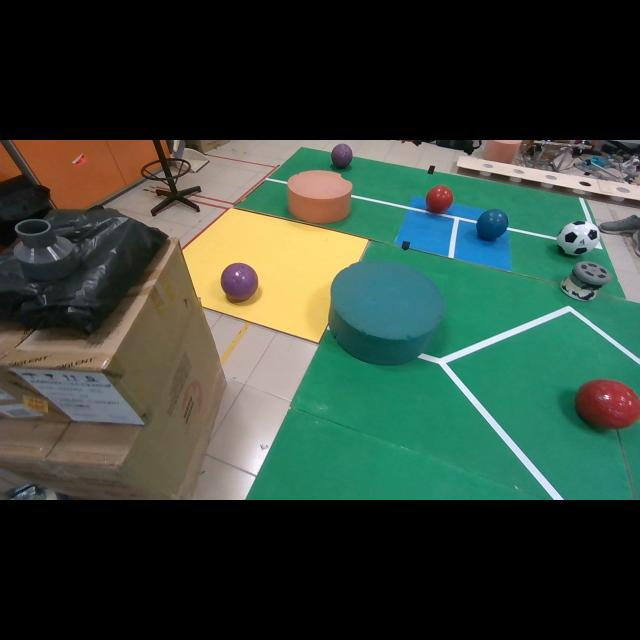B: (476, 209, 509, 241)
P: (220, 262, 259, 302), (331, 144, 352, 169)
R: (575, 379, 640, 429), (426, 185, 454, 214)
